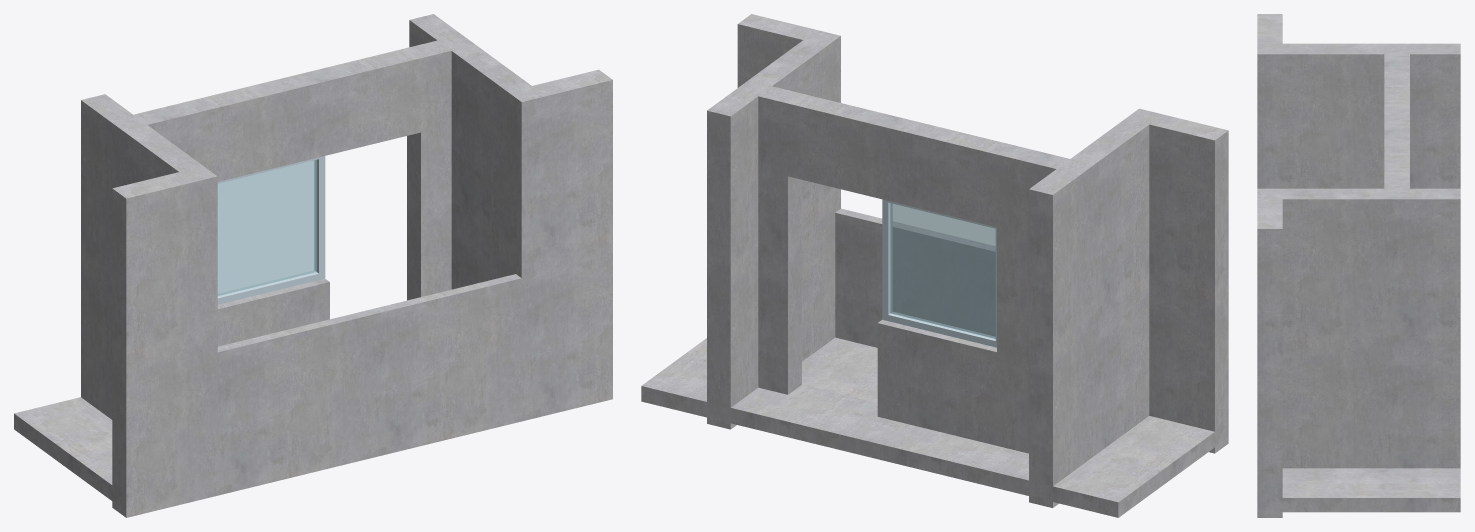
File: recessed.glb
3 views of the same model, side by side, from view 1: azimuth 30°, elevation 25°; view 2: azimuth 150°, elevation 25°; view 3: azimuth 270°, elevation 25° (orthographic). The views are drawn at different scales.
Parts seen in each view (by area): view 1: 主体墙, 栏板, 楼板, 窗; view 2: 主体墙, 楼板, 栏板, 窗; view 3: 主体墙, 楼板.
Boxes of the visible parts, x1,y1,x2,y2 form: 主体墙: (81, 14, 612, 501); 栏板: (217, 274, 521, 479); 楼板: (14, 383, 612, 517); 窗: (217, 156, 325, 304); 主体墙: (707, 14, 1228, 492); 楼板: (641, 337, 1228, 517); 栏板: (835, 208, 995, 347); 窗: (882, 199, 996, 347); 主体墙: (1257, 14, 1460, 503); 楼板: (1257, 468, 1460, 517).
Size of the model in its own units: 4.8 by 3.01 by 1.92.
5 materials, 3 textured.
